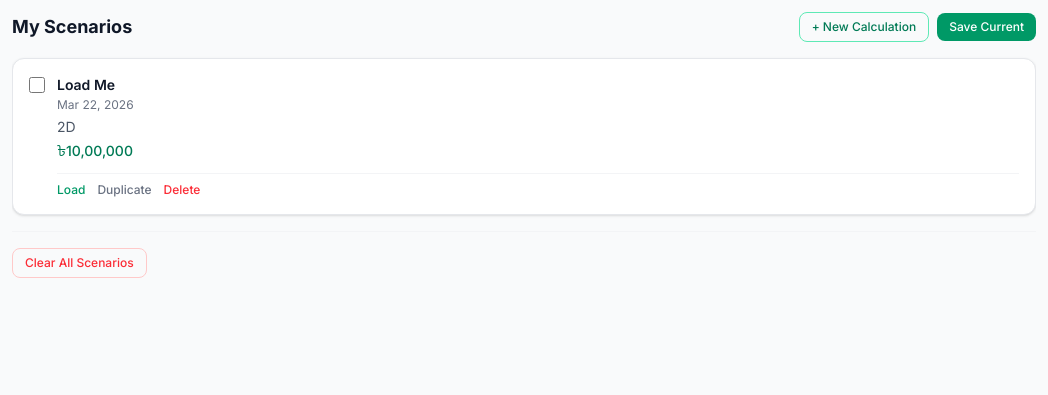
it: ScenariosPage › shows unsaved changes confirmation when loading scenario
The image size is (1048, 395).
Click the button "Load": (71, 190) [57,182,85,198]
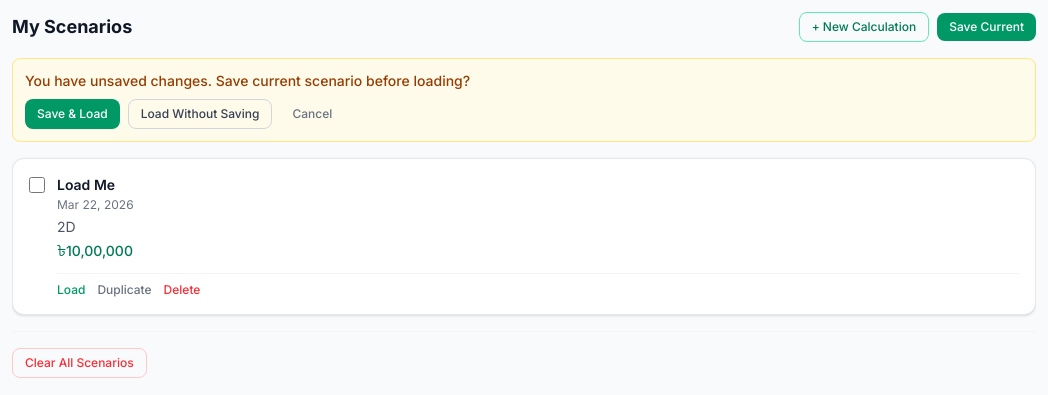
Check: the text "You have unsaved changes" is shown, box [25,72,470,89]
Check: the button "Save & Load" is shown, box [25,99,120,129]
Check: the button "Load Without Saving" is shown, box [128,99,272,129]
